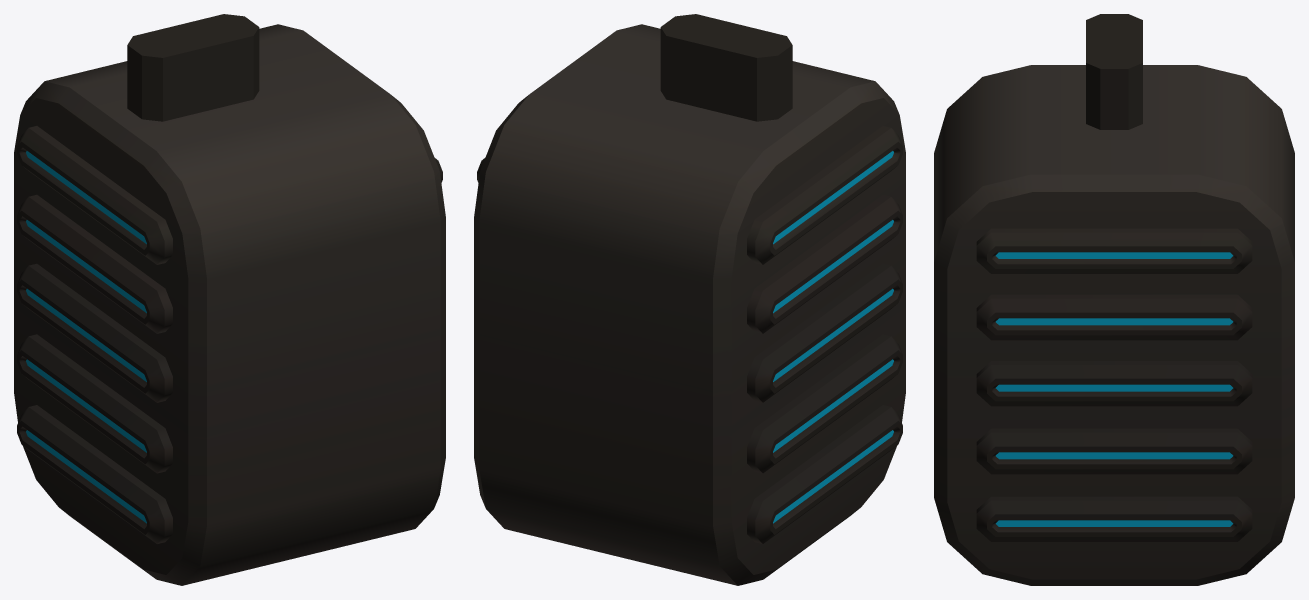
Rendered from MG6_Magazine.fbx.
3 renders of one model, left to right at view 1: azimuth 30°, elevation 25°; view 2: azimuth 150°, elevation 25°; view 3: azimuth 270°, elevation 25°, orthographic. The views are drawn at different scales.
Parts seen in each view (by area): view 1: MG6_Magazine; view 2: MG6_Magazine; view 3: MG6_Magazine.
Boxes of the visible parts, x1=… form: MG6_Magazine: x1=14, y1=14, x2=445, y2=585; MG6_Magazine: x1=474, y1=14, x2=905, y2=585; MG6_Magazine: x1=934, y1=14, x2=1294, y2=585.
Bounding box in the file's own units: 12.3 × 19.74 × 13.66.
